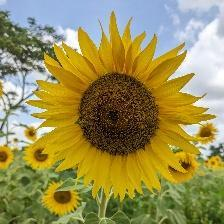sunflower: (31, 20, 209, 205)
